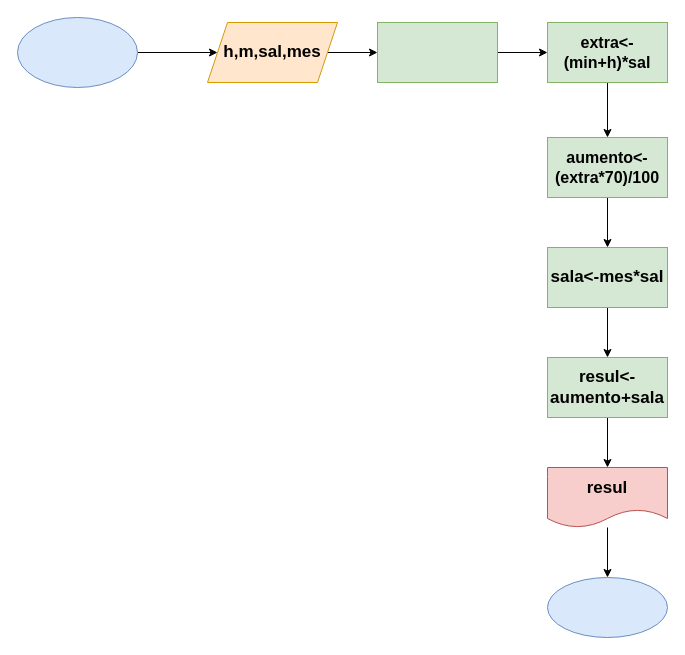
This 685x655 diagram has some shape labels left out. The shapes that lost their labels are listed below. From the top down, each one's box as (x1, y1, x2, y2) in pixels, then its label:
(16, 16, 138, 88): Início
(376, 22, 498, 82): min<-m/60
(546, 576, 668, 638): FIM
